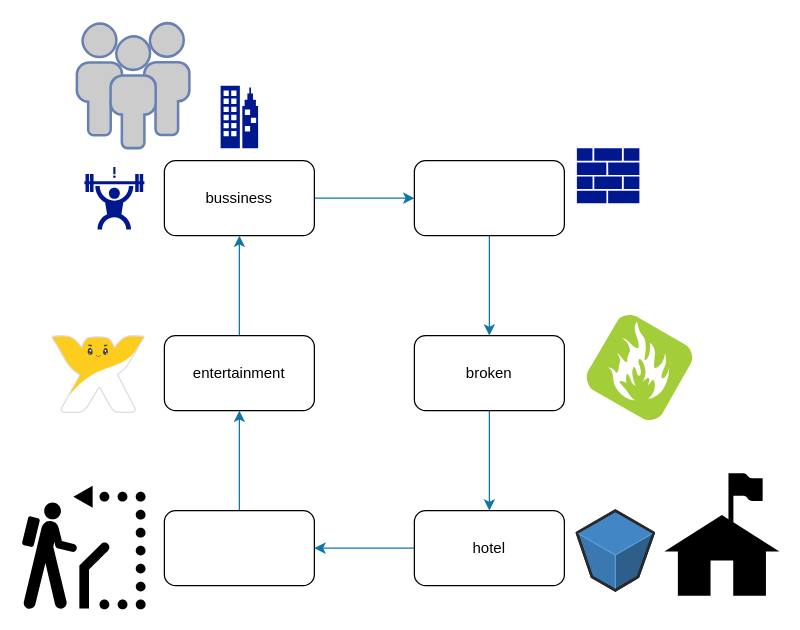
The diagram is 800 pixels wide and 630 high, and some of its shapes have lost their labels. Here are the shapes that lost their labels. From the top down, the centre of each, then its label:
[488,197]: history
[238,547]: travel
